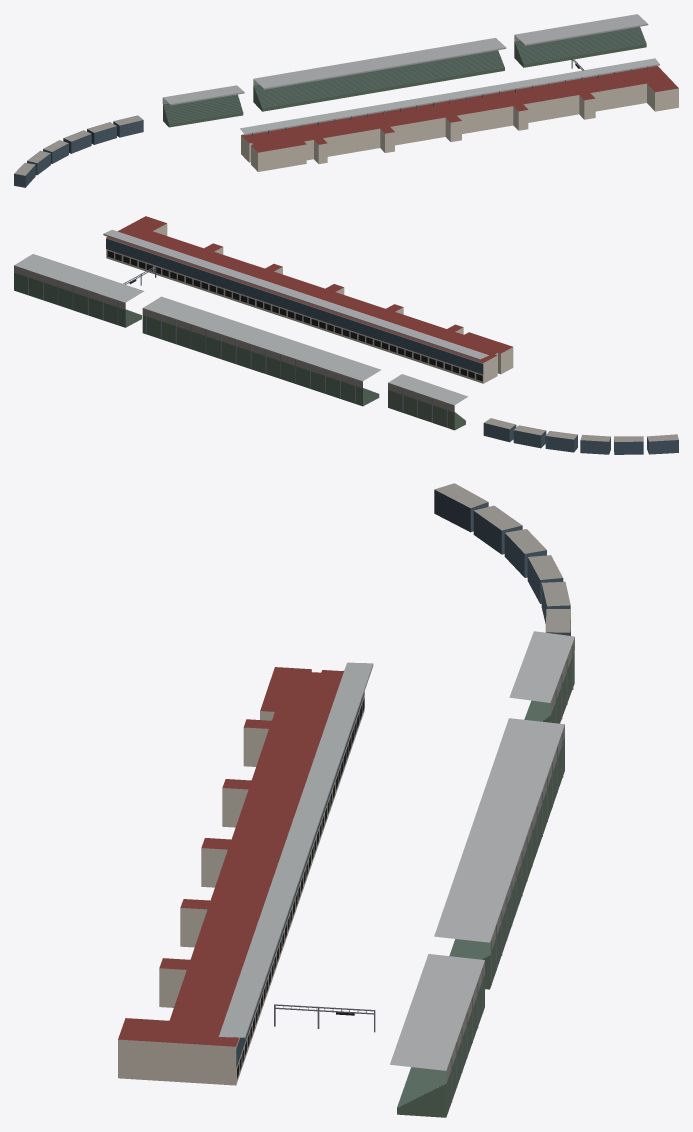
Rendered from pit_straight.glb.
3 renders of one model, top to bottom at view 1: azimuth 30°, elevation 25°; view 2: azimuth 150°, elevation 25°; view 3: azimuth 270°, elevation 25°, orthographic. The views are drawn at different scales.
Visible parts, largest first — view 1: chunk_0_0; view 2: chunk_0_0; view 3: chunk_0_0.
Boxes of the visible parts, <box> form: chunk_0_0: <box>14,14,678,187</box>; chunk_0_0: <box>14,216,678,454</box>; chunk_0_0: <box>118,483,574,1117</box>.
Size of the model in its own units: 486 by 19.5 by 155.
